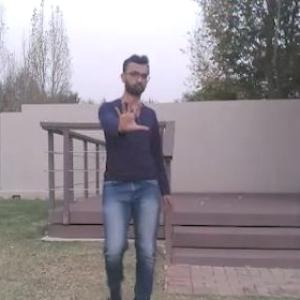follow_hand: (110, 91, 152, 135)
